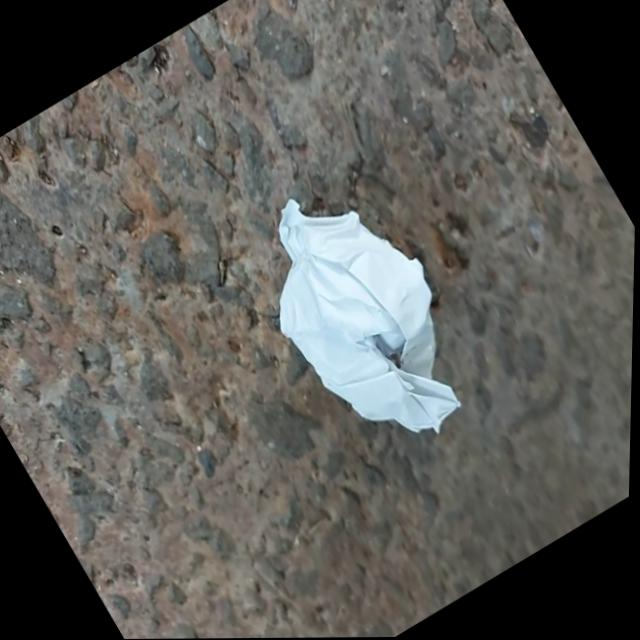paper: (202, 134, 539, 509)
